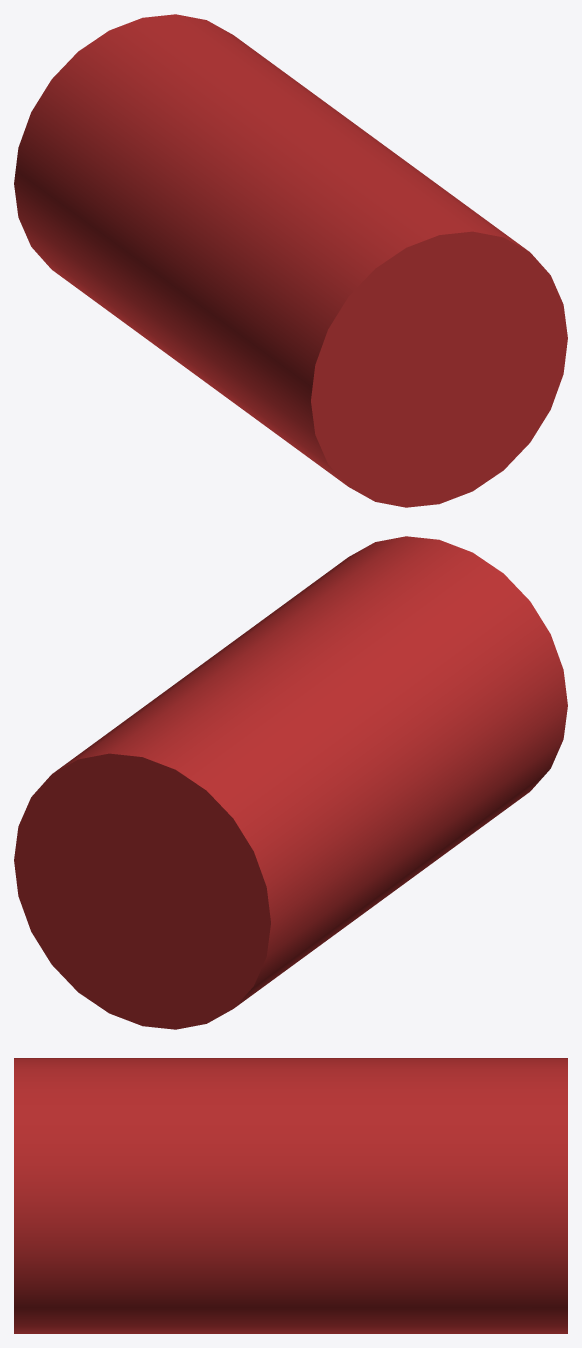
Rendered from ARC_Hand.obj.
3 views of the same model, one above another, from view 1: azimuth 30°, elevation 25°; view 2: azimuth 150°, elevation 25°; view 3: azimuth 270°, elevation 25° (orthographic). The views are drawn at different scales.
Parts seen in each view (by area): view 1: Hand; view 2: Hand; view 3: Hand.
Part boxes in pixels (box(x1,y1,x2,y2)): Hand: box(14, 14, 567, 507); Hand: box(14, 536, 567, 1029); Hand: box(14, 1058, 567, 1333).
Bounding box in the file's own units: 0.1 × 0.1 × 0.2.
